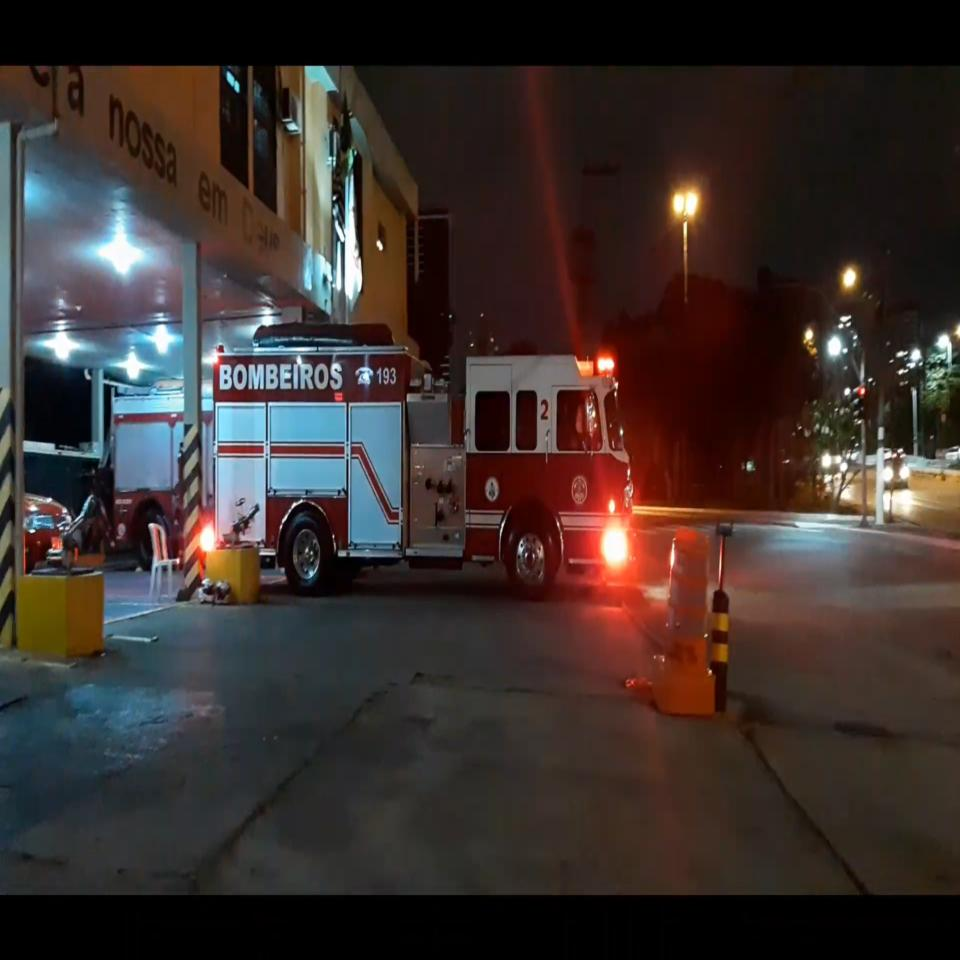viatura: (209, 321, 641, 599)
